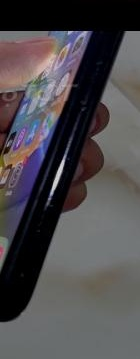scratch: (6, 237, 53, 295), (26, 189, 66, 236), (86, 49, 117, 87), (71, 93, 107, 123)
